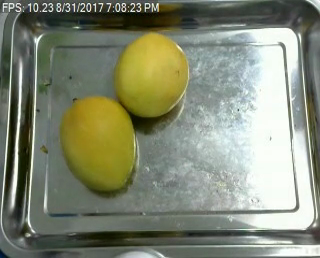Mango: (60, 97, 133, 192), (114, 32, 189, 118)
